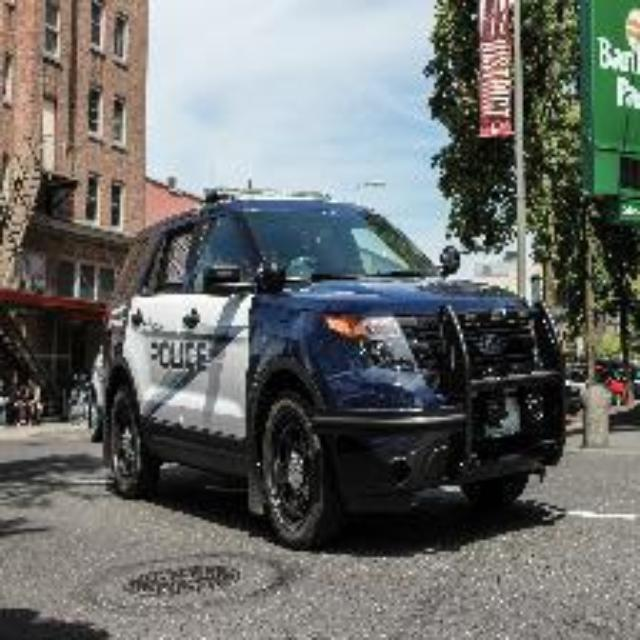emergency: (113, 186, 567, 532)
